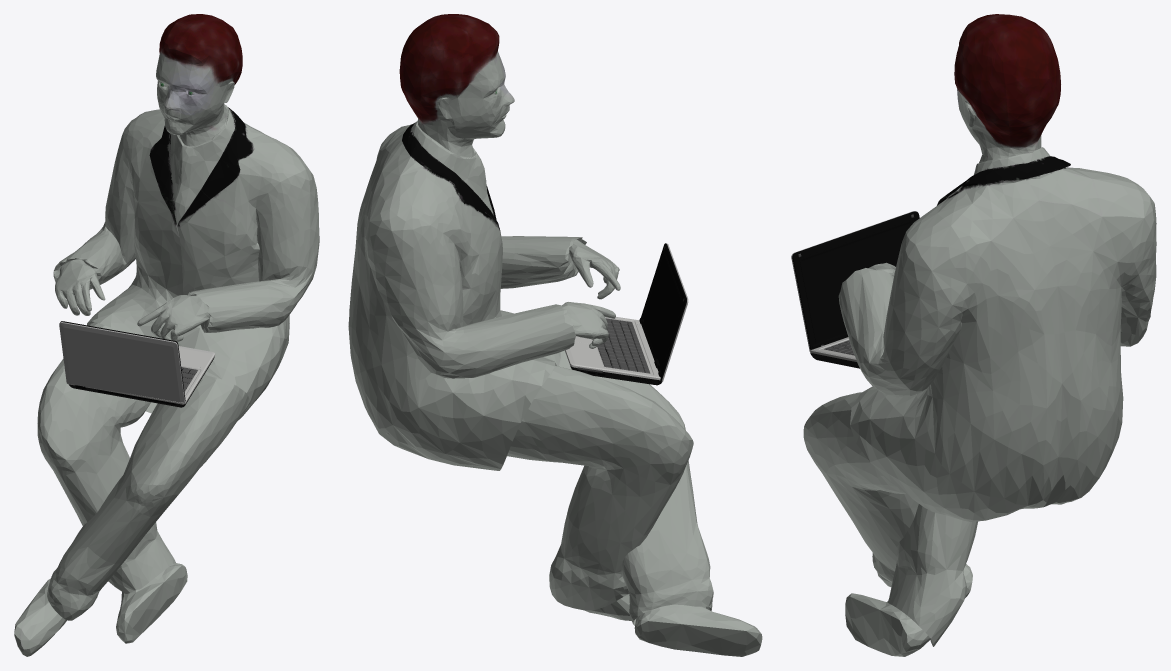
The model's file is dev1.fbx.
3 renders of one model, left to right at view 1: azimuth 30°, elevation 25°; view 2: azimuth 150°, elevation 25°; view 3: azimuth 270°, elevation 25°, orthographic. The views are drawn at different scales.
Visible parts, largest first — view 1: node_id18, node_id14 (×2), node_id5; view 2: node_id18, node_id5 (×2), node_id14; view 3: node_id18, node_id14.
Part boxes in pixels (bbox=[...]): node_id18: bbox=[14, 14, 319, 656]; node_id14 (×2): bbox=[59, 321, 185, 405]; node_id5: bbox=[69, 346, 214, 404]; node_id18: bbox=[348, 14, 762, 656]; node_id5 (×2): bbox=[565, 317, 660, 380]; node_id14: bbox=[641, 243, 686, 381]; node_id18: bbox=[803, 14, 1156, 656]; node_id14: bbox=[792, 211, 919, 350].
Bounding box in the file's own units: 0.296 × 0.4878 × 0.2314.
12 materials, 1 textured.
